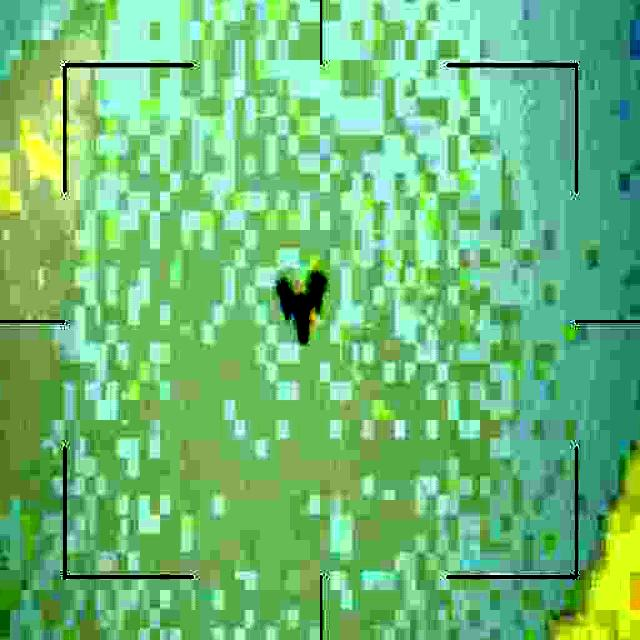bird: (274, 264, 331, 348)
